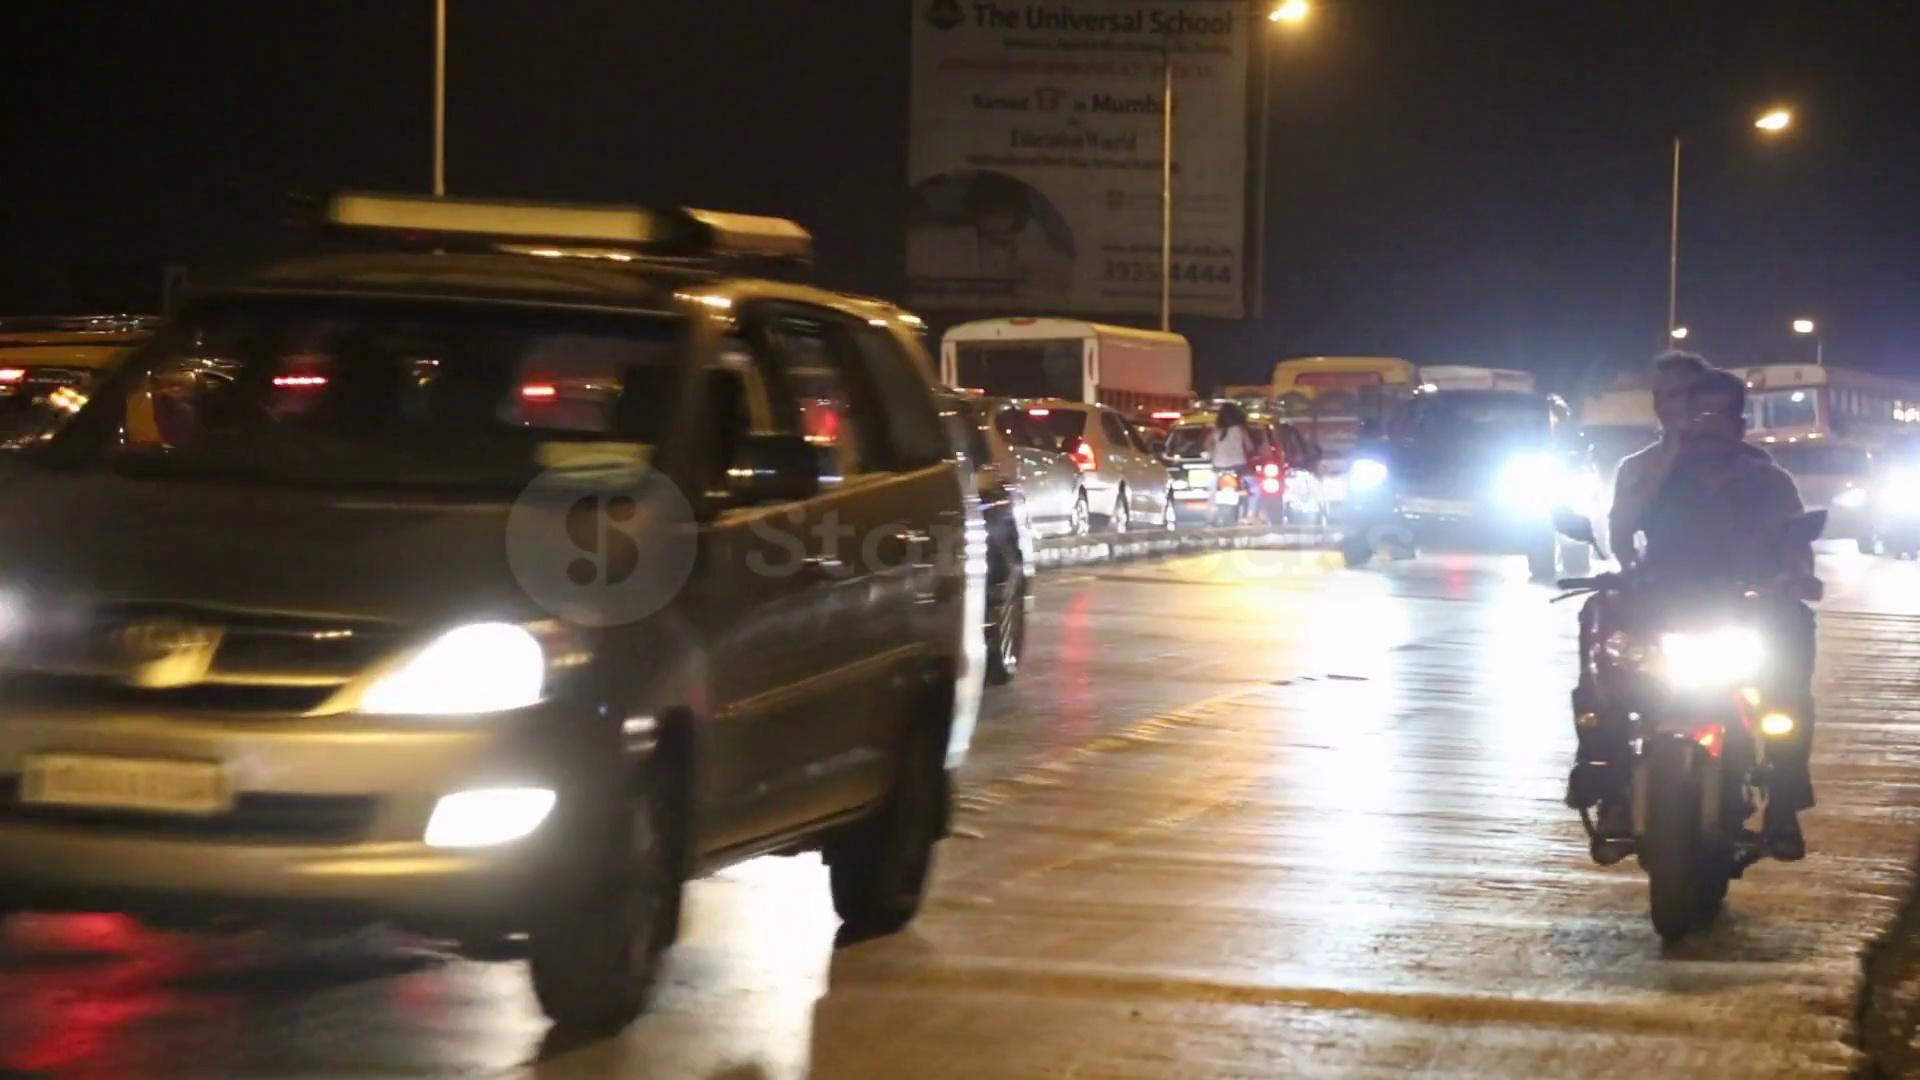rider: (1566, 364, 1823, 862), (1184, 393, 1274, 550)
without_helmate: (1669, 369, 1763, 459)
